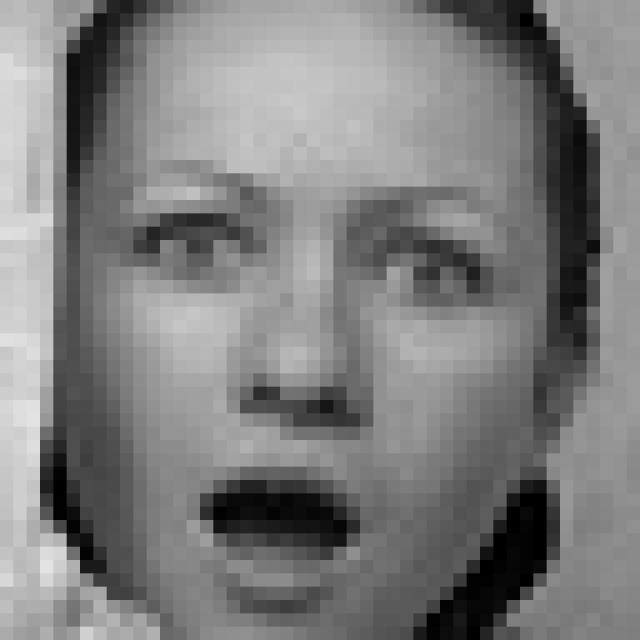surprise: (98, 156, 516, 614)
